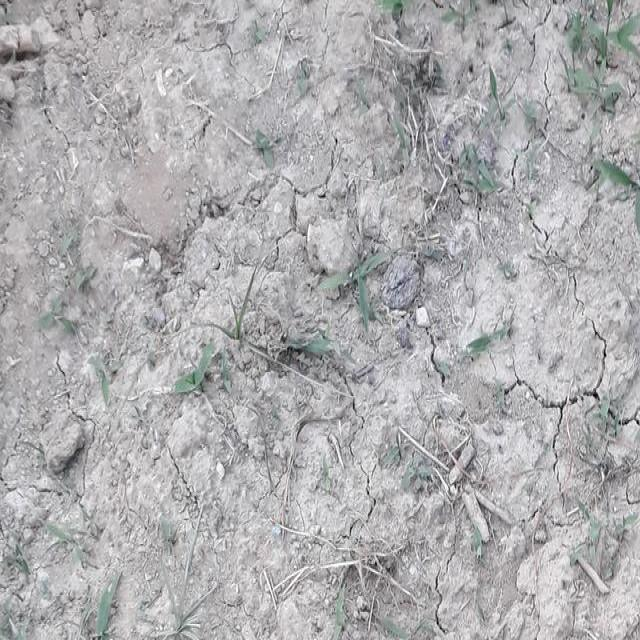weed: (566, 23, 640, 114), (330, 254, 394, 328), (156, 352, 222, 408), (455, 162, 504, 192)
